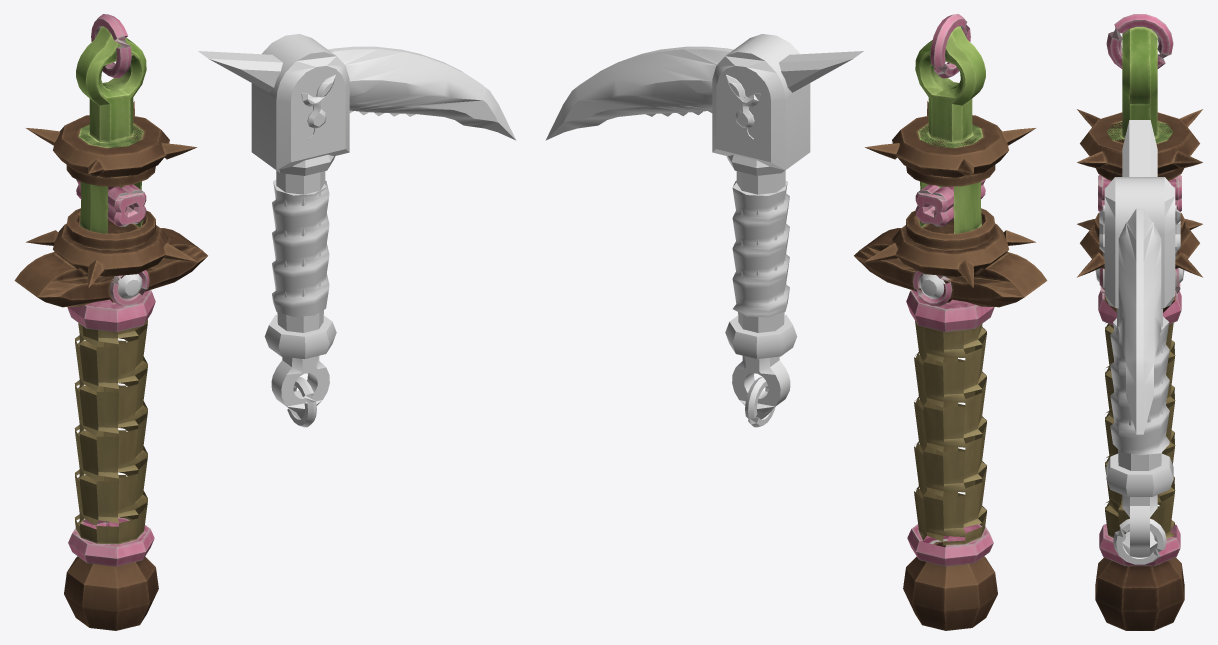
File: Creeperlash.fbx
3 renders of one model, left to right at view 1: azimuth 30°, elevation 25°; view 2: azimuth 150°, elevation 25°; view 3: azimuth 270°, elevation 25°, orthographic.
Parts seen in each view (by area): view 1: Creeperlash_Body, HeadSocket, HeadBlade, HeadWrap, TailLug, HeadButt, HeadHaft, HeadSpur, HeadMotif, TailRing; view 2: Creeperlash_Body, HeadSocket, HeadBlade, HeadWrap, TailLug, HeadButt, HeadHaft, HeadSpur, HeadMotif, TailRing; view 3: Creeperlash_Body, HeadBlade, HeadSocket, HeadWrap, HeadButt, HeadSpur, TailLug, TailRing, HeadHaft, HeadMotif.
Part boxes in pixels (bbox=[...]): Creeperlash_Body: bbox=[14, 14, 207, 630]; HeadSocket: bbox=[251, 34, 349, 170]; HeadBlade: bbox=[328, 46, 516, 140]; HeadWrap: bbox=[272, 179, 329, 316]; TailLug: bbox=[271, 356, 329, 419]; HeadButt: bbox=[264, 314, 336, 358]; HeadHaft: bbox=[276, 170, 325, 332]; HeadSpur: bbox=[198, 51, 282, 92]; HeadMotif: bbox=[301, 74, 335, 139]; TailRing: bbox=[287, 376, 316, 427]; Creeperlash_Body: bbox=[854, 14, 1047, 630]; HeadSocket: bbox=[712, 34, 810, 170]; HeadBlade: bbox=[545, 46, 733, 140]; HeadWrap: bbox=[732, 180, 789, 317]; TailLug: bbox=[732, 356, 790, 419]; HeadButt: bbox=[725, 314, 797, 358]; HeadHaft: bbox=[736, 170, 785, 332]; HeadSpur: bbox=[779, 51, 863, 92]; HeadMotif: bbox=[726, 74, 760, 139]; TailRing: bbox=[745, 376, 775, 427]; Creeperlash_Body: bbox=[1077, 14, 1202, 630]; HeadBlade: bbox=[1118, 208, 1161, 434]; HeadSocket: bbox=[1104, 177, 1175, 307]; HeadWrap: bbox=[1110, 316, 1169, 455]; HeadButt: bbox=[1106, 453, 1173, 496]; HeadSpur: bbox=[1122, 120, 1157, 176]; TailLug: bbox=[1122, 495, 1157, 557]; TailRing: bbox=[1113, 518, 1166, 564]; HeadHaft: bbox=[1117, 308, 1162, 470]; HeadMotif: bbox=[1099, 205, 1180, 257].
Size of the model in its own units: 1.6 by 1.91 by 0.3584.
